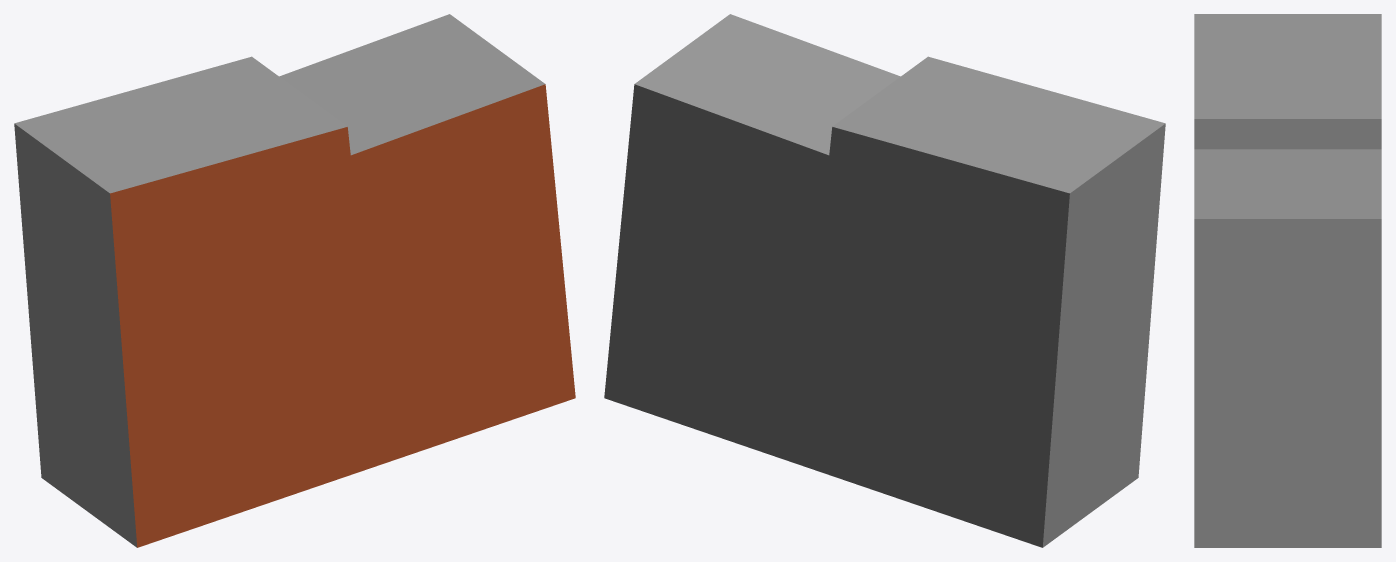
Rendered from construction_6270_assumed_A_Casa_h6m.obj.
3 renders of one model, left to right at view 1: azimuth 30°, elevation 25°; view 2: azimuth 150°, elevation 25°; view 3: azimuth 270°, elevation 25°, orthographic. The views are drawn at different scales.
Visible parts, largest first — view 1: construction_6270_assumed_A_Casa; view 2: construction_6270_assumed_A_Casa; view 3: construction_6270_assumed_A_Casa.
Part boxes in pixels (x1,y1,x2,y2): construction_6270_assumed_A_Casa: (14, 14, 575, 547); construction_6270_assumed_A_Casa: (604, 14, 1165, 547); construction_6270_assumed_A_Casa: (1194, 14, 1381, 547).
Bounding box in the file's own units: 16.83 × 12.78 × 6.
